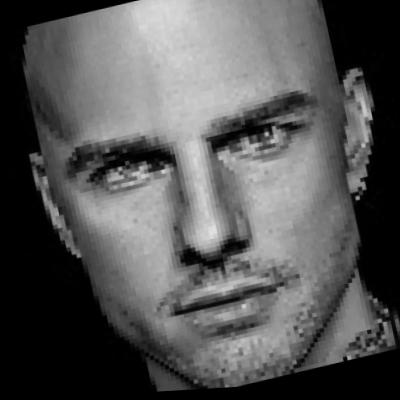angry: (26, 0, 388, 399)
